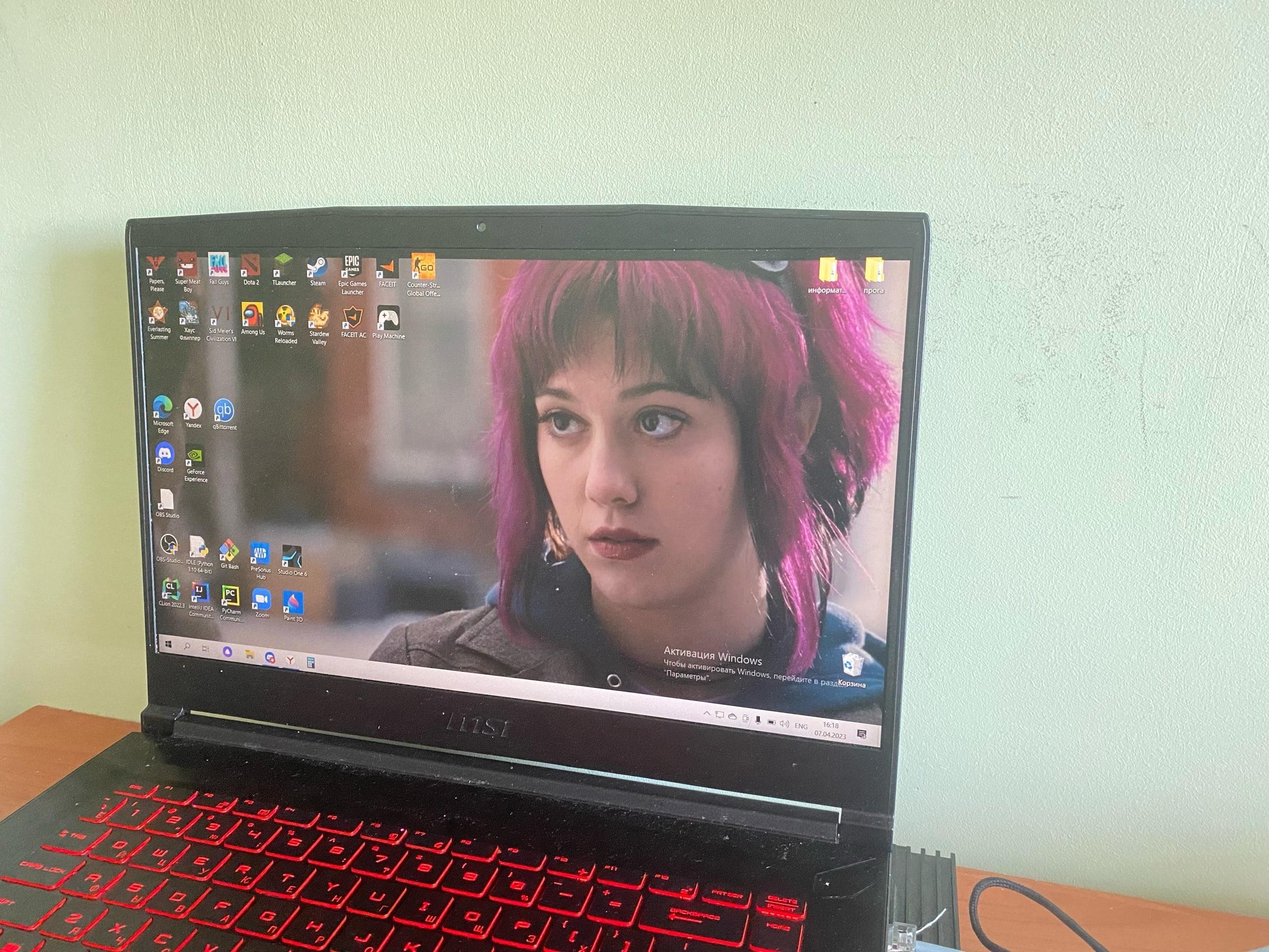monitor: (122, 202, 931, 825)
